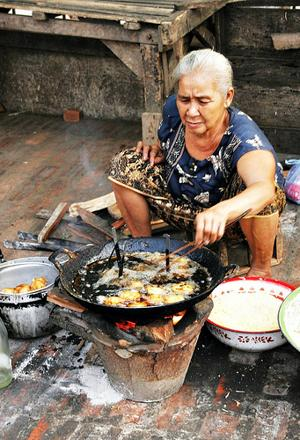person: (106, 48, 288, 285)
